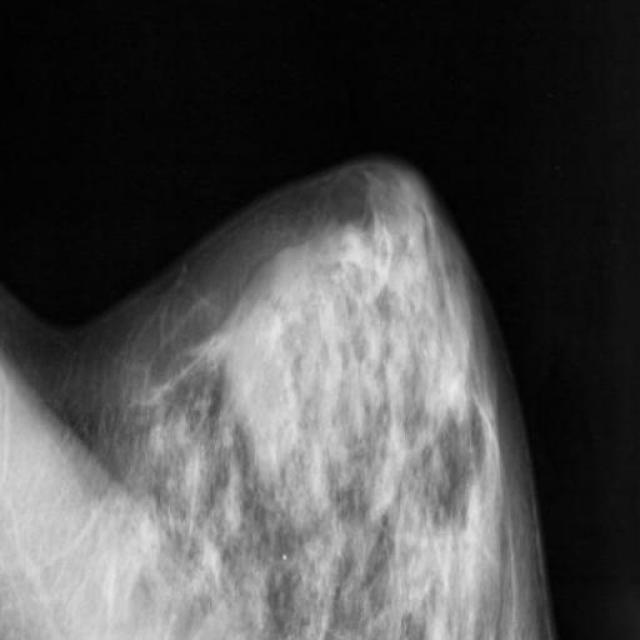cancer: (220, 282, 316, 528)
